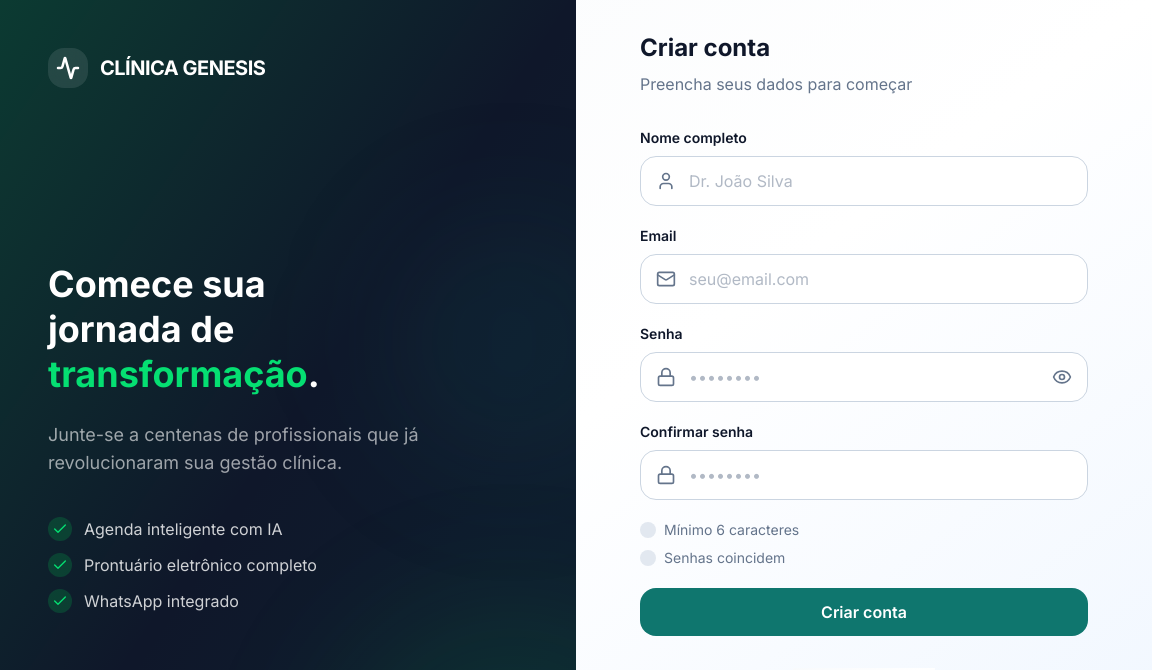
Test: Register › local validation › should show error when password is too short
In the field labelled "Nome completo": point(864, 181) [640, 156, 1088, 206], type "Test User"
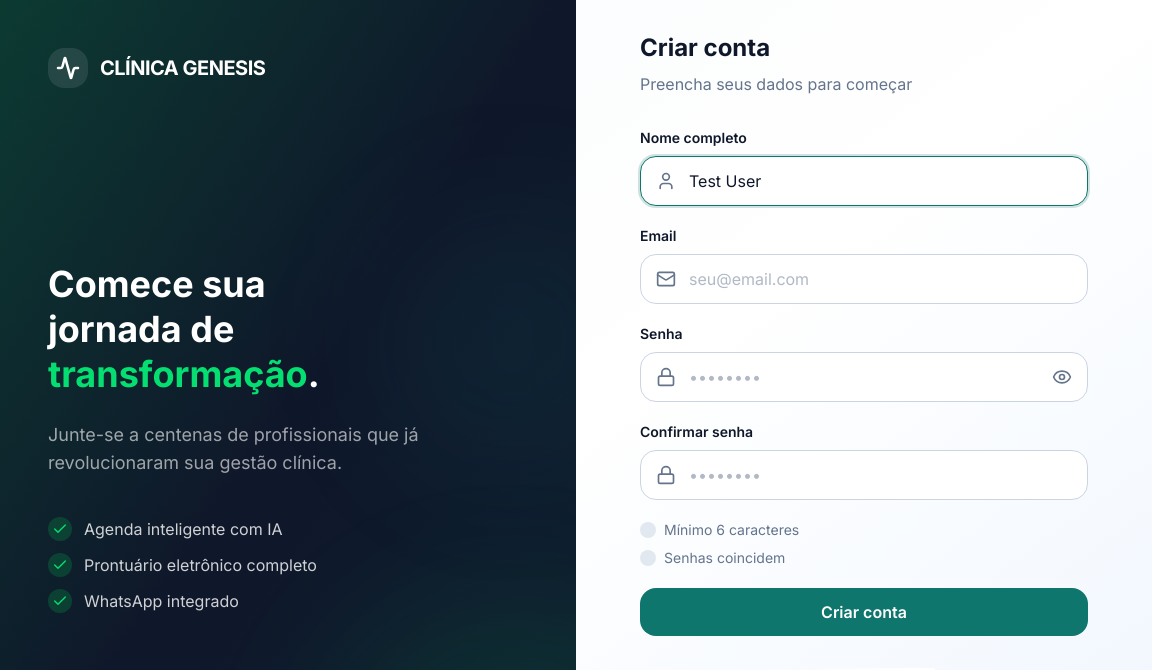
In the field labelled "Email": point(864, 279) [640, 254, 1088, 304], type "test@example.com"
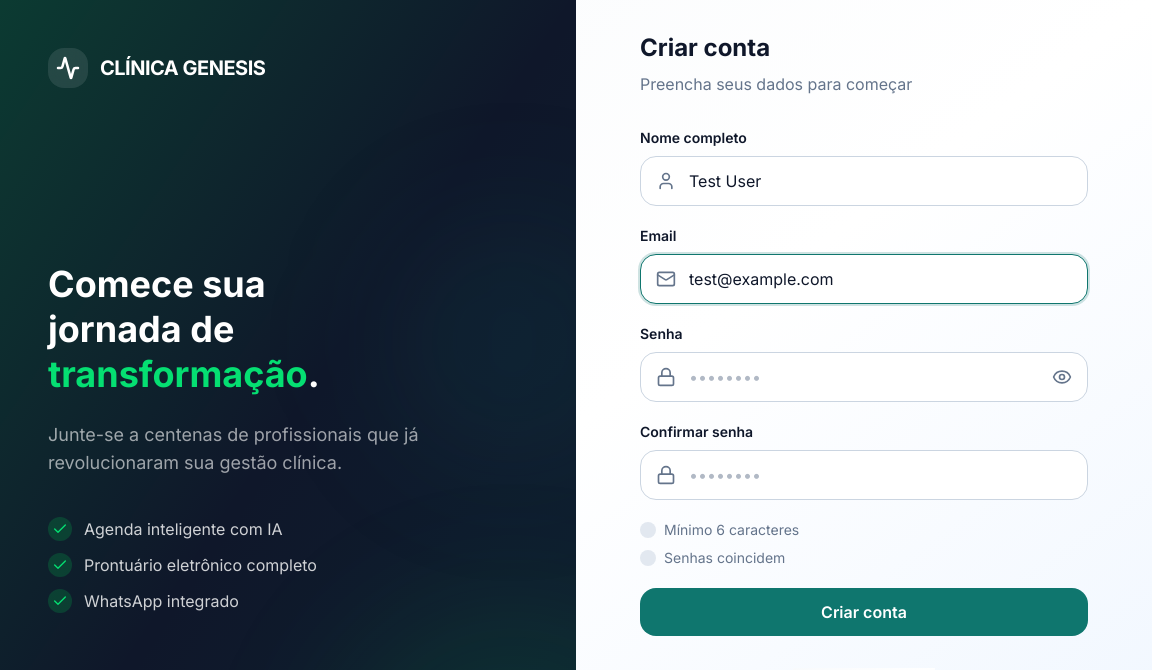
In the password field labelled "Senha": point(864, 377) [640, 352, 1088, 402], type "123"
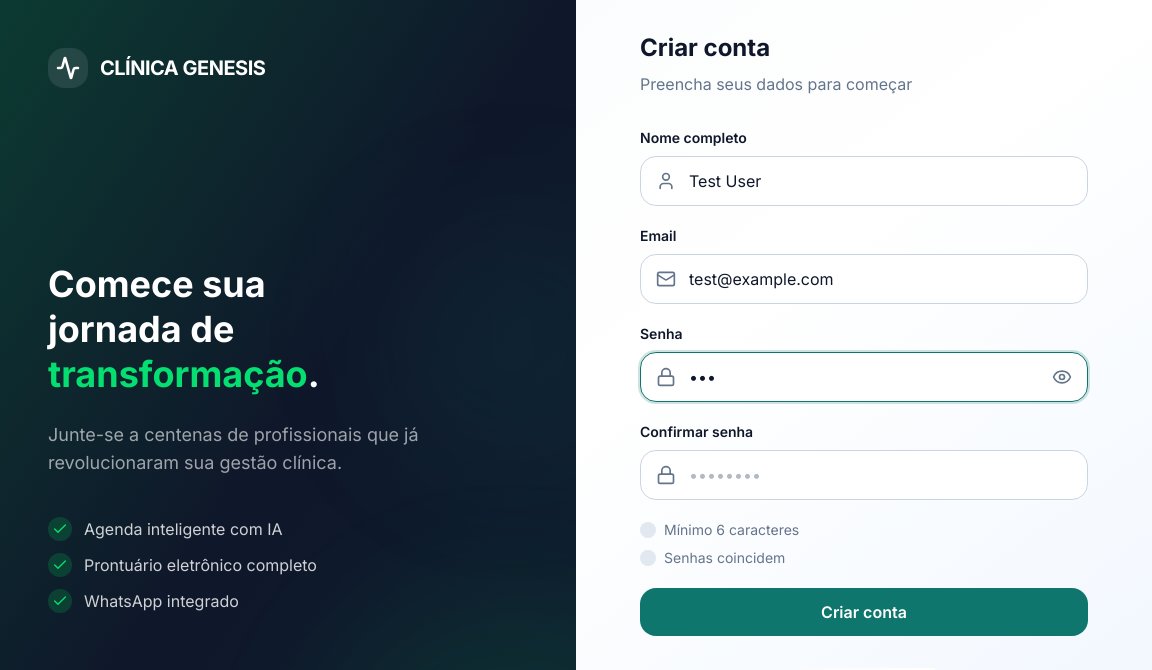
In the password field labelled "Confirmar senha": point(864, 475) [640, 450, 1088, 500], type "123"
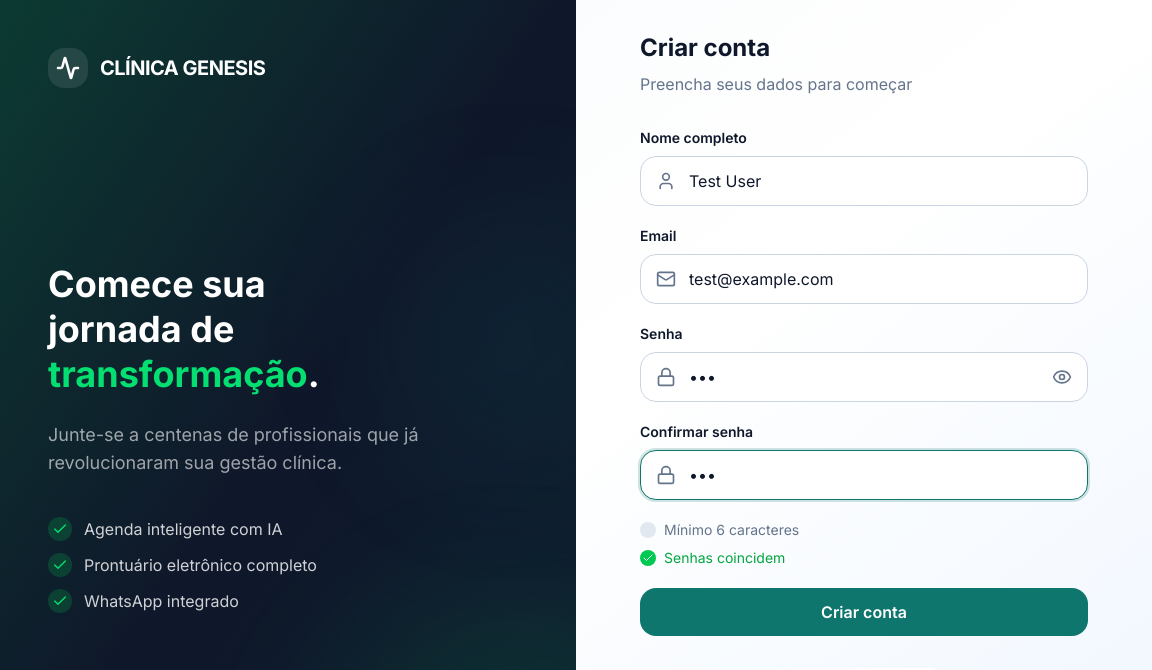
Click the button "Criar conta": point(864, 612) [640, 588, 1088, 636]
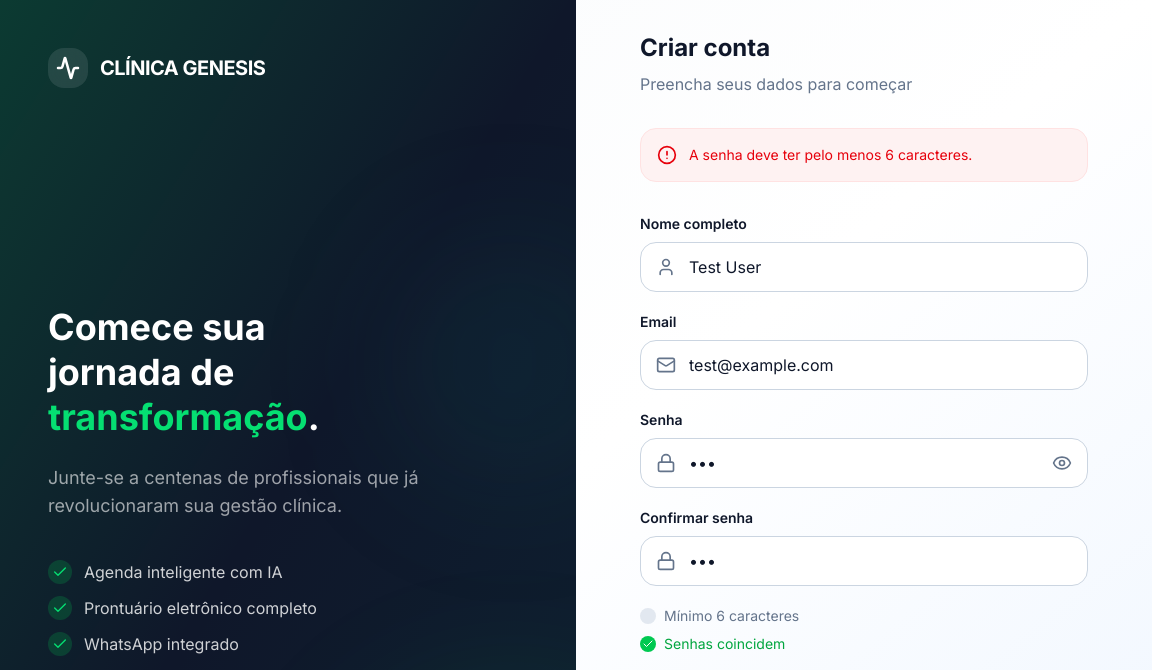
Now the text "A senha deve ter pelo menos 6 caracteres." is shown, box [689, 145, 972, 165]
